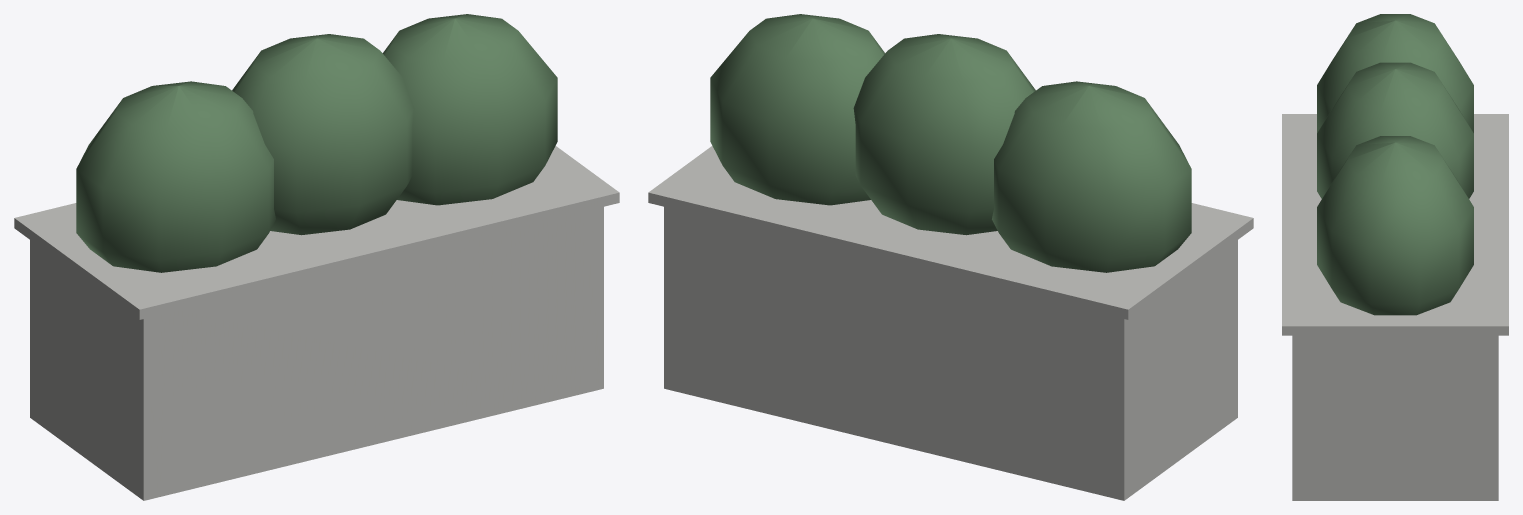
The model's file is planter.glb.
3 views of the same model, side by side, from view 1: azimuth 30°, elevation 25°; view 2: azimuth 150°, elevation 25°; view 3: azimuth 270°, elevation 25° (orthographic). The views are drawn at different scales.
Visible parts, largest first — view 1: planter, shrub; view 2: planter, shrub; view 3: planter, shrub.
Boxes of the visible parts, x1,y1,x2,y2 form: planter: (14, 146, 619, 500); shrub: (76, 14, 557, 272); planter: (648, 146, 1253, 500); shrub: (710, 14, 1191, 272); planter: (1282, 114, 1508, 500); shrub: (1317, 14, 1473, 315).
Size of the model in its own units: 1.46 by 1.06 by 0.66.
